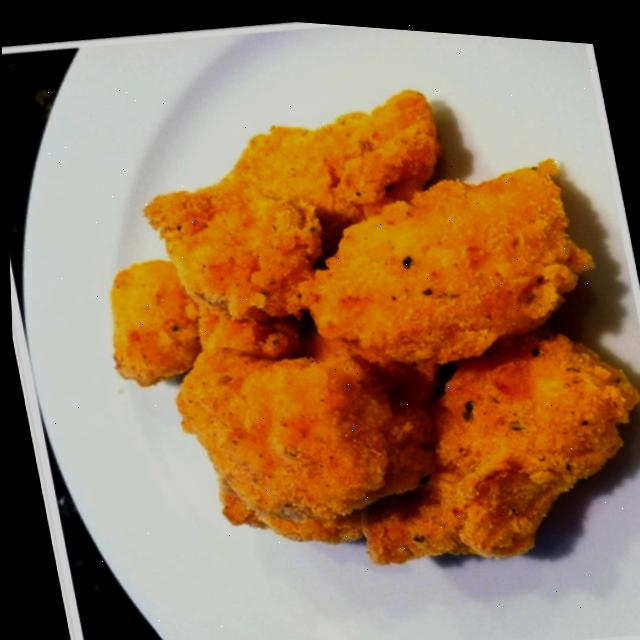鸡肉料理 含炸鸡: (1, 0, 640, 640)
